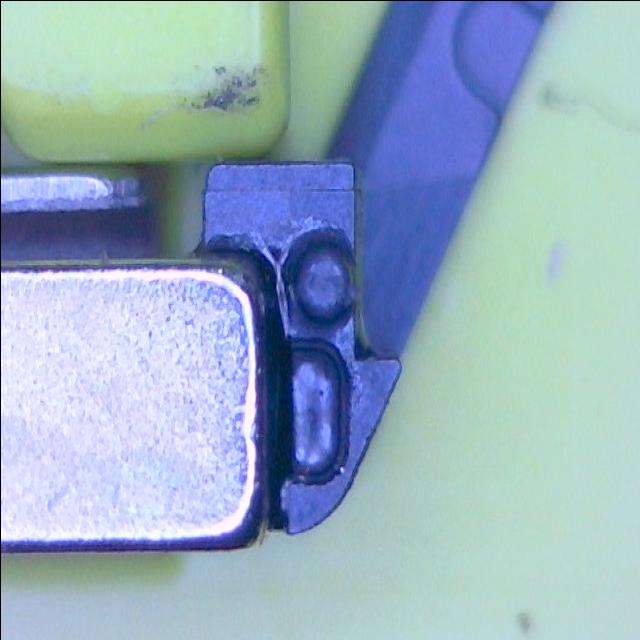over: (276, 333, 348, 489)
